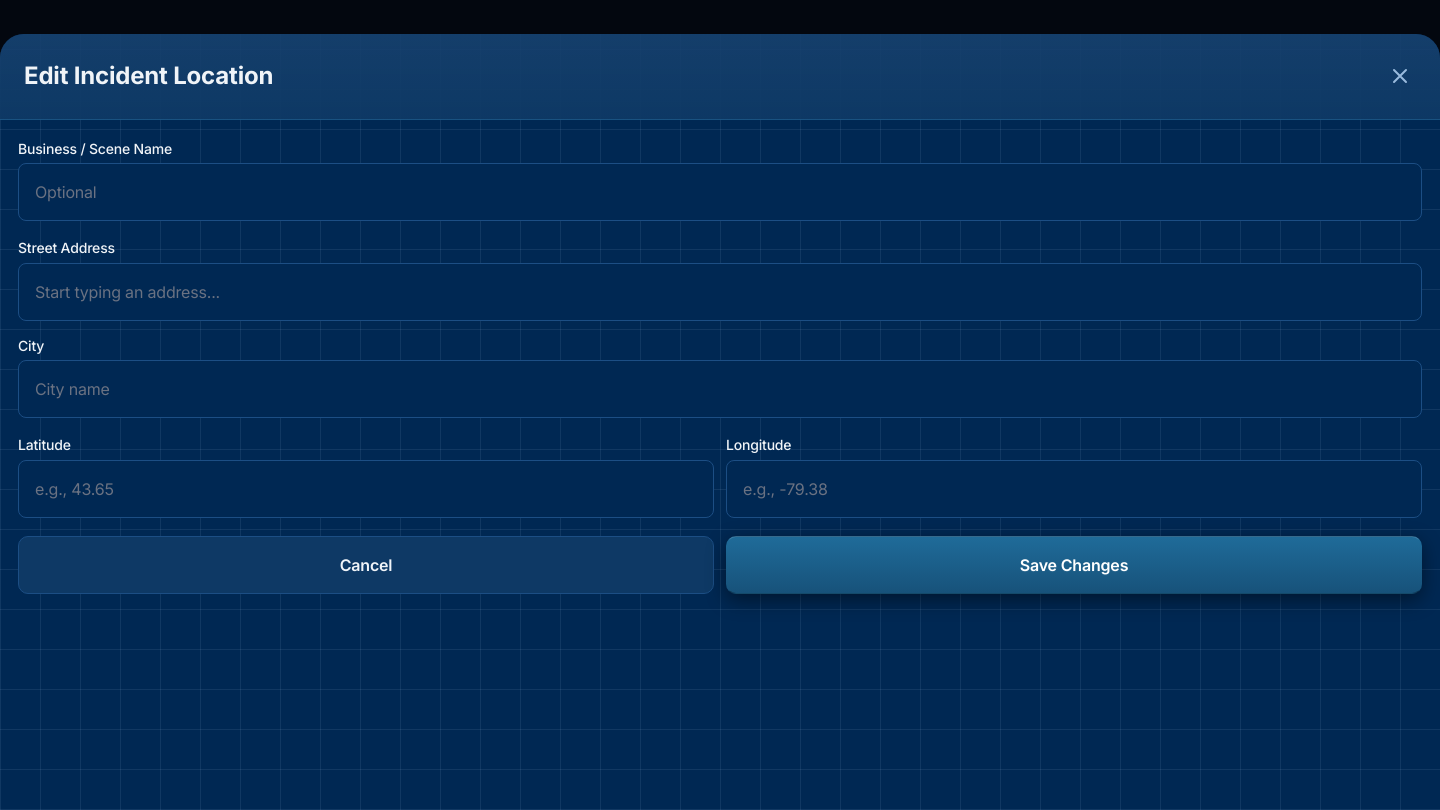
it: EditIncidentLocationModal — seeding › rejects an out-of-range coordinate inline and withholds the coordinate card
Type "91" into the field named "Latitude" at (366, 489), box [18,460,714,518]
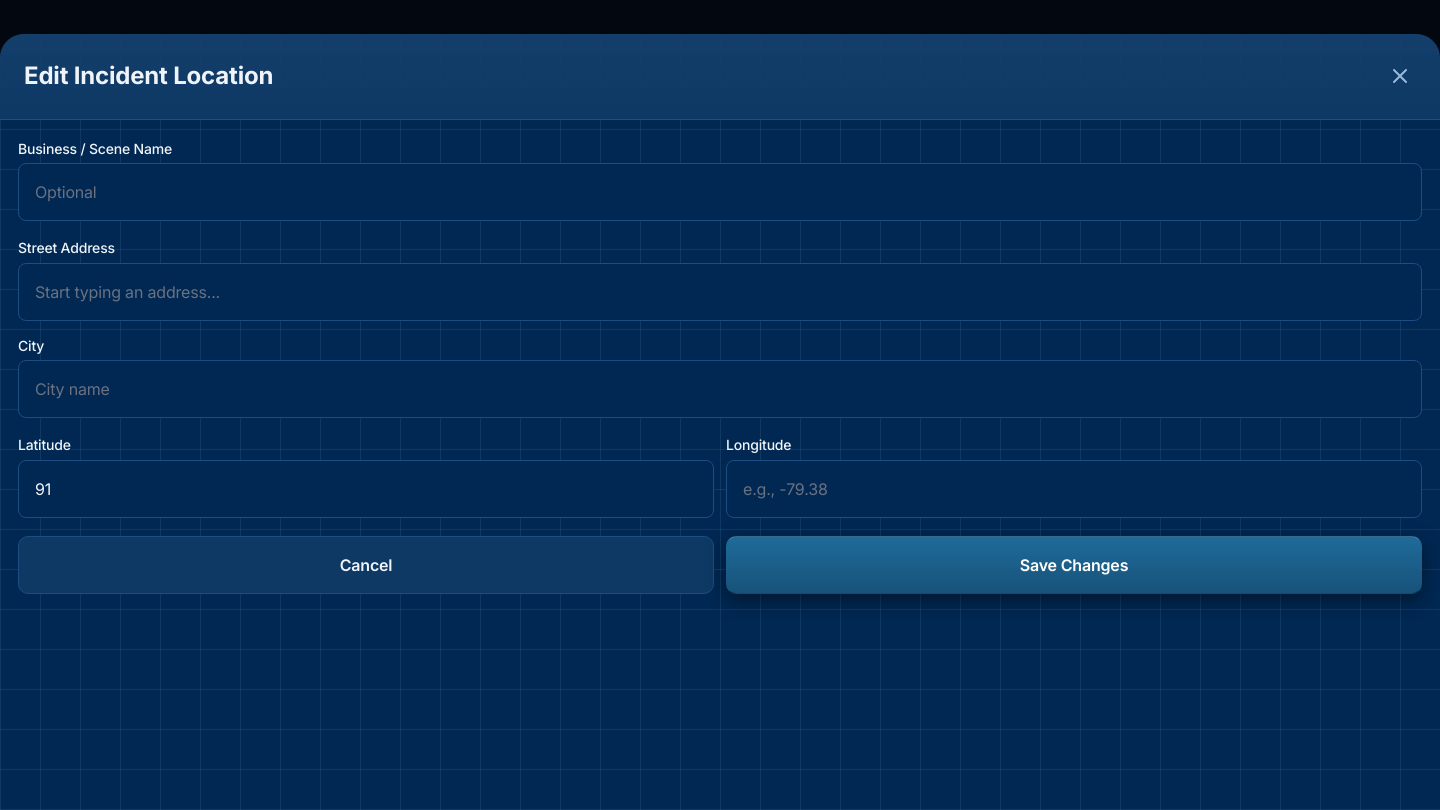
Leave the field named "Latitude", box [18,460,714,518]
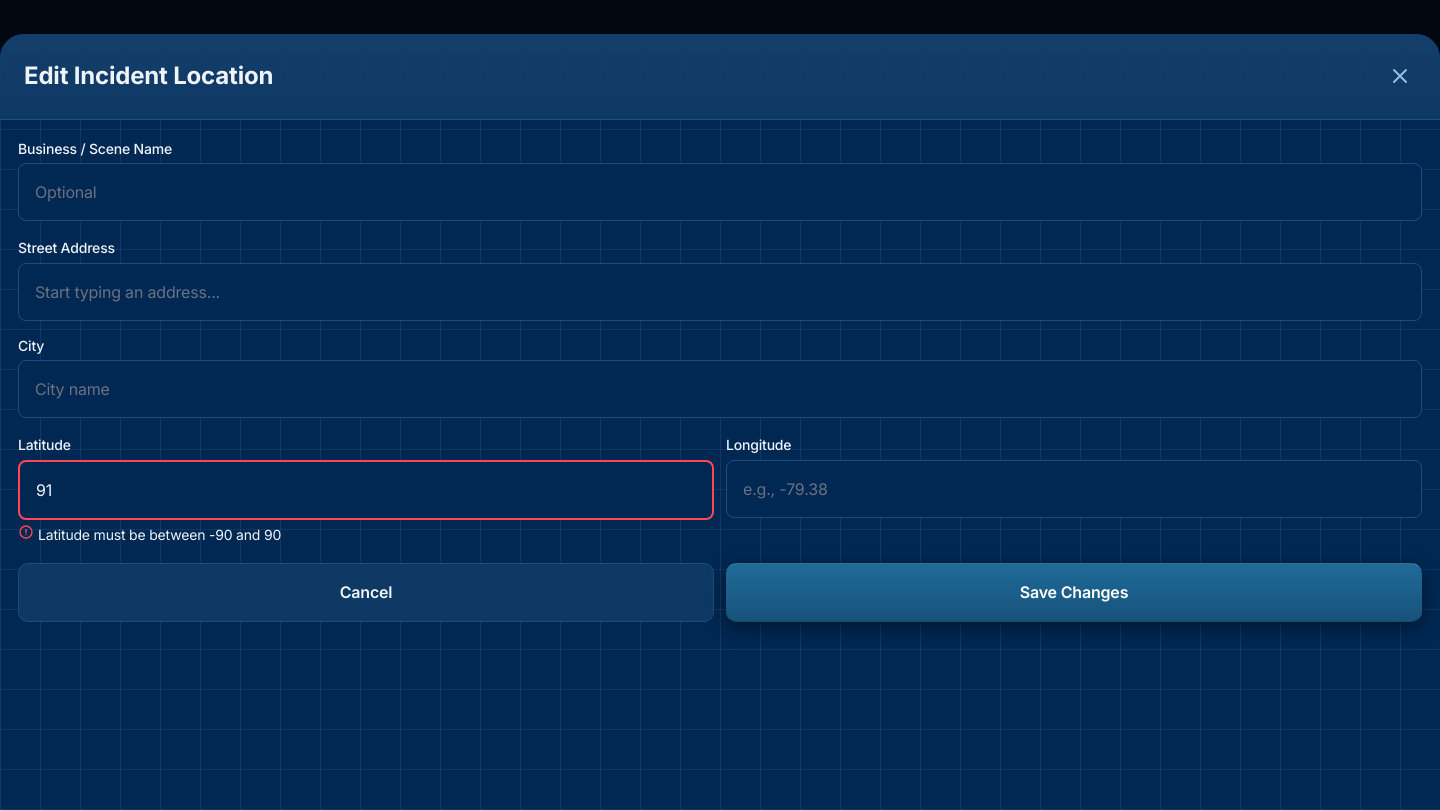
Now the text "Latitude must be between -90 and 90" is shown, box [18,524,281,543]
